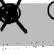not correct: (0, 0, 30, 35)
